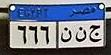6: (27, 25, 39, 48), (39, 25, 50, 45), (17, 23, 27, 45)
jeem: (88, 24, 102, 44)
noon: (60, 25, 73, 46), (74, 26, 87, 44)
